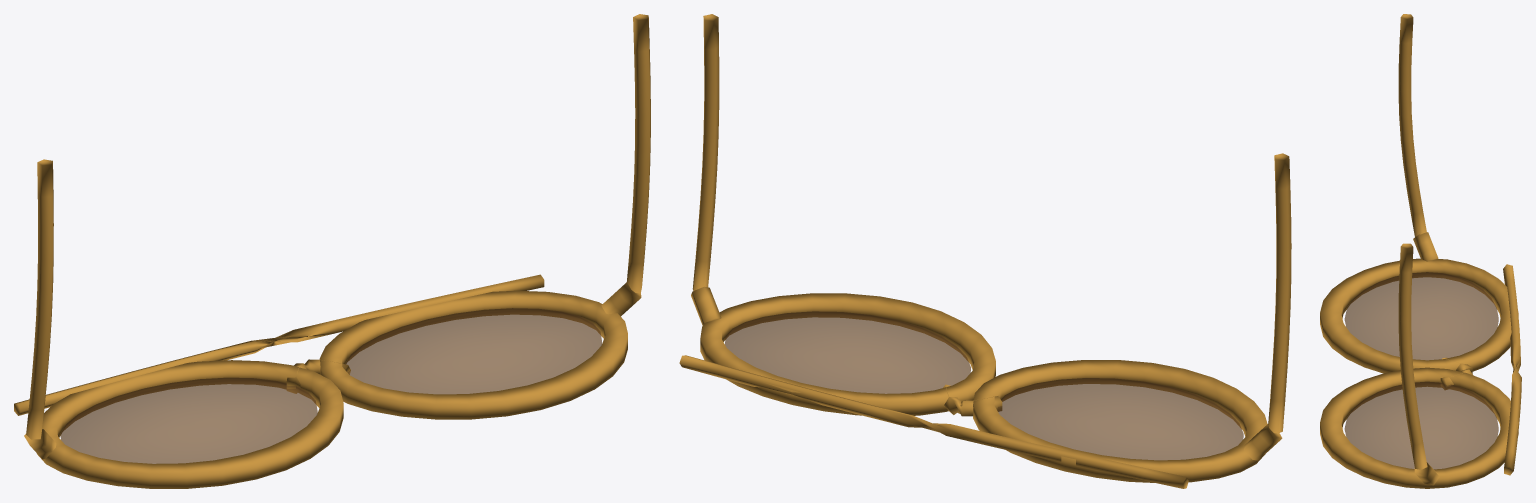
The model's file is glasses_aviator_gold.glb.
The picture shows the model from 3 angles, left to right: view 1: azimuth 30°, elevation 25°; view 2: azimuth 150°, elevation 25°; view 3: azimuth 270°, elevation 25°; orthographic projection. The views are drawn at different scales.
Visible parts, largest first — view 1: SM_AR_Glasses_AviatorGold_LOD1; view 2: SM_AR_Glasses_AviatorGold_LOD1; view 3: SM_AR_Glasses_AviatorGold_LOD1.
Boxes of the visible parts, <box> form: SM_AR_Glasses_AviatorGold_LOD1: <box>14,14,650,488</box>; SM_AR_Glasses_AviatorGold_LOD1: <box>679,14,1291,488</box>; SM_AR_Glasses_AviatorGold_LOD1: <box>1320,14,1521,488</box>.
Size of the model in its own units: 0.1382 by 0.0677 by 0.0498.
